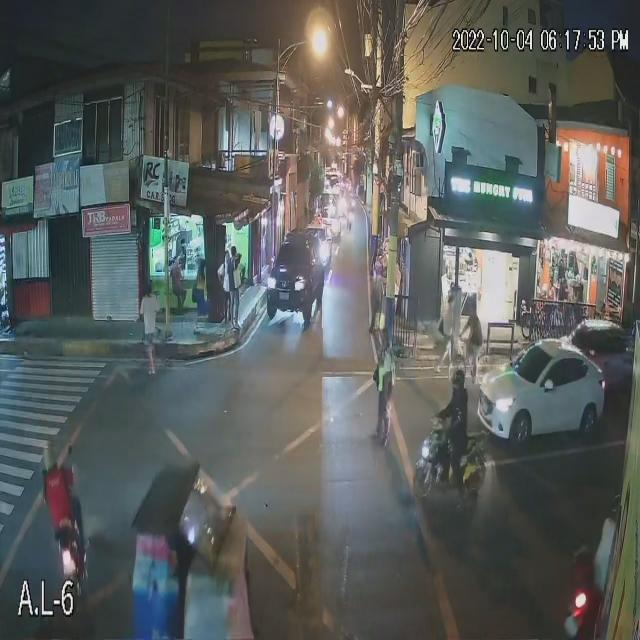helmet: (38, 450, 56, 466), (446, 374, 462, 388)
motorcycle: (418, 434, 484, 485), (52, 528, 91, 590)
rider: (41, 477, 73, 522), (446, 393, 462, 448)
